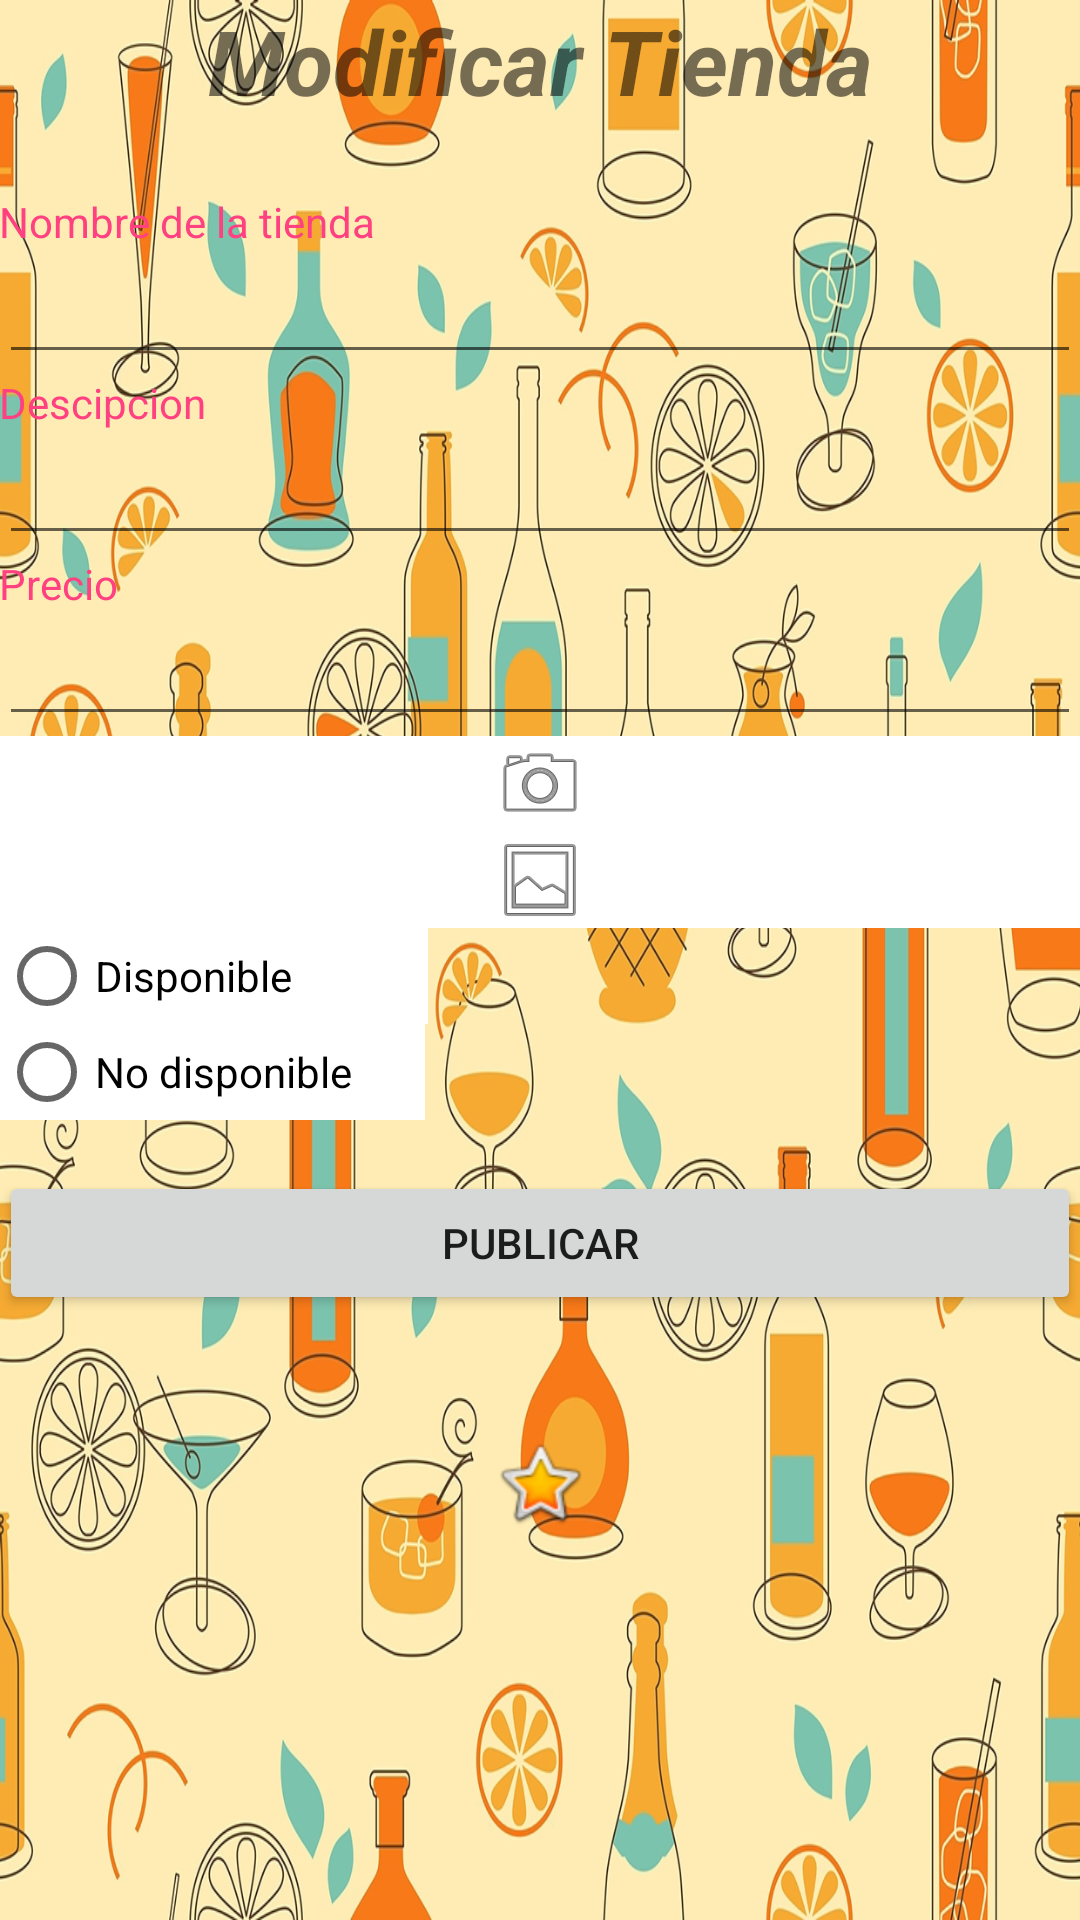

Icons on this 1080w x 1920h Android screen, each with the point to tap as point (x, y):
boton Camara: point (540, 782)
gallery: point (540, 880)
